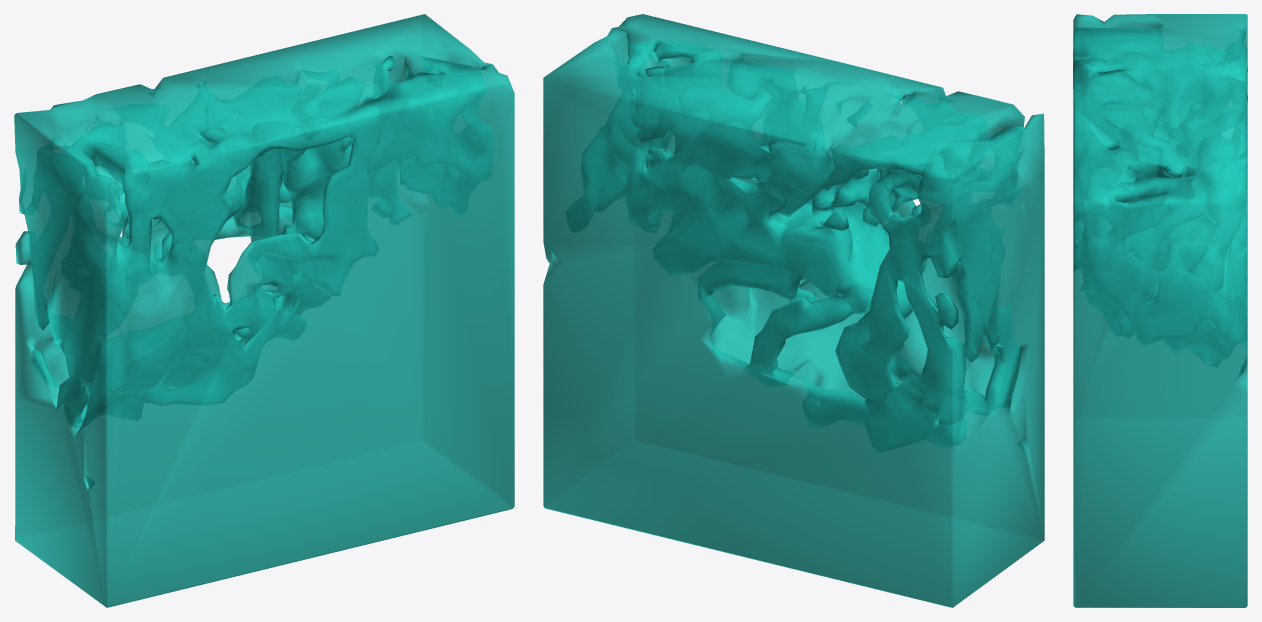
3 renders of one model, left to right at view 1: azimuth 30°, elevation 25°; view 2: azimuth 150°, elevation 25°; view 3: azimuth 270°, elevation 25°, orthographic. The views are drawn at different scales.
Visible parts, largest first — view 1: Liquid_Domain; view 2: Liquid_Domain; view 3: Liquid_Domain.
Boxes of the visible parts, x1=… form: Liquid_Domain: x1=14, y1=14, x2=514, y2=607; Liquid_Domain: x1=543, y1=14, x2=1044, y2=607; Liquid_Domain: x1=1073, y1=14, x2=1247, y2=607.
Bounding box in the file's own units: 884 × 884 × 345.
